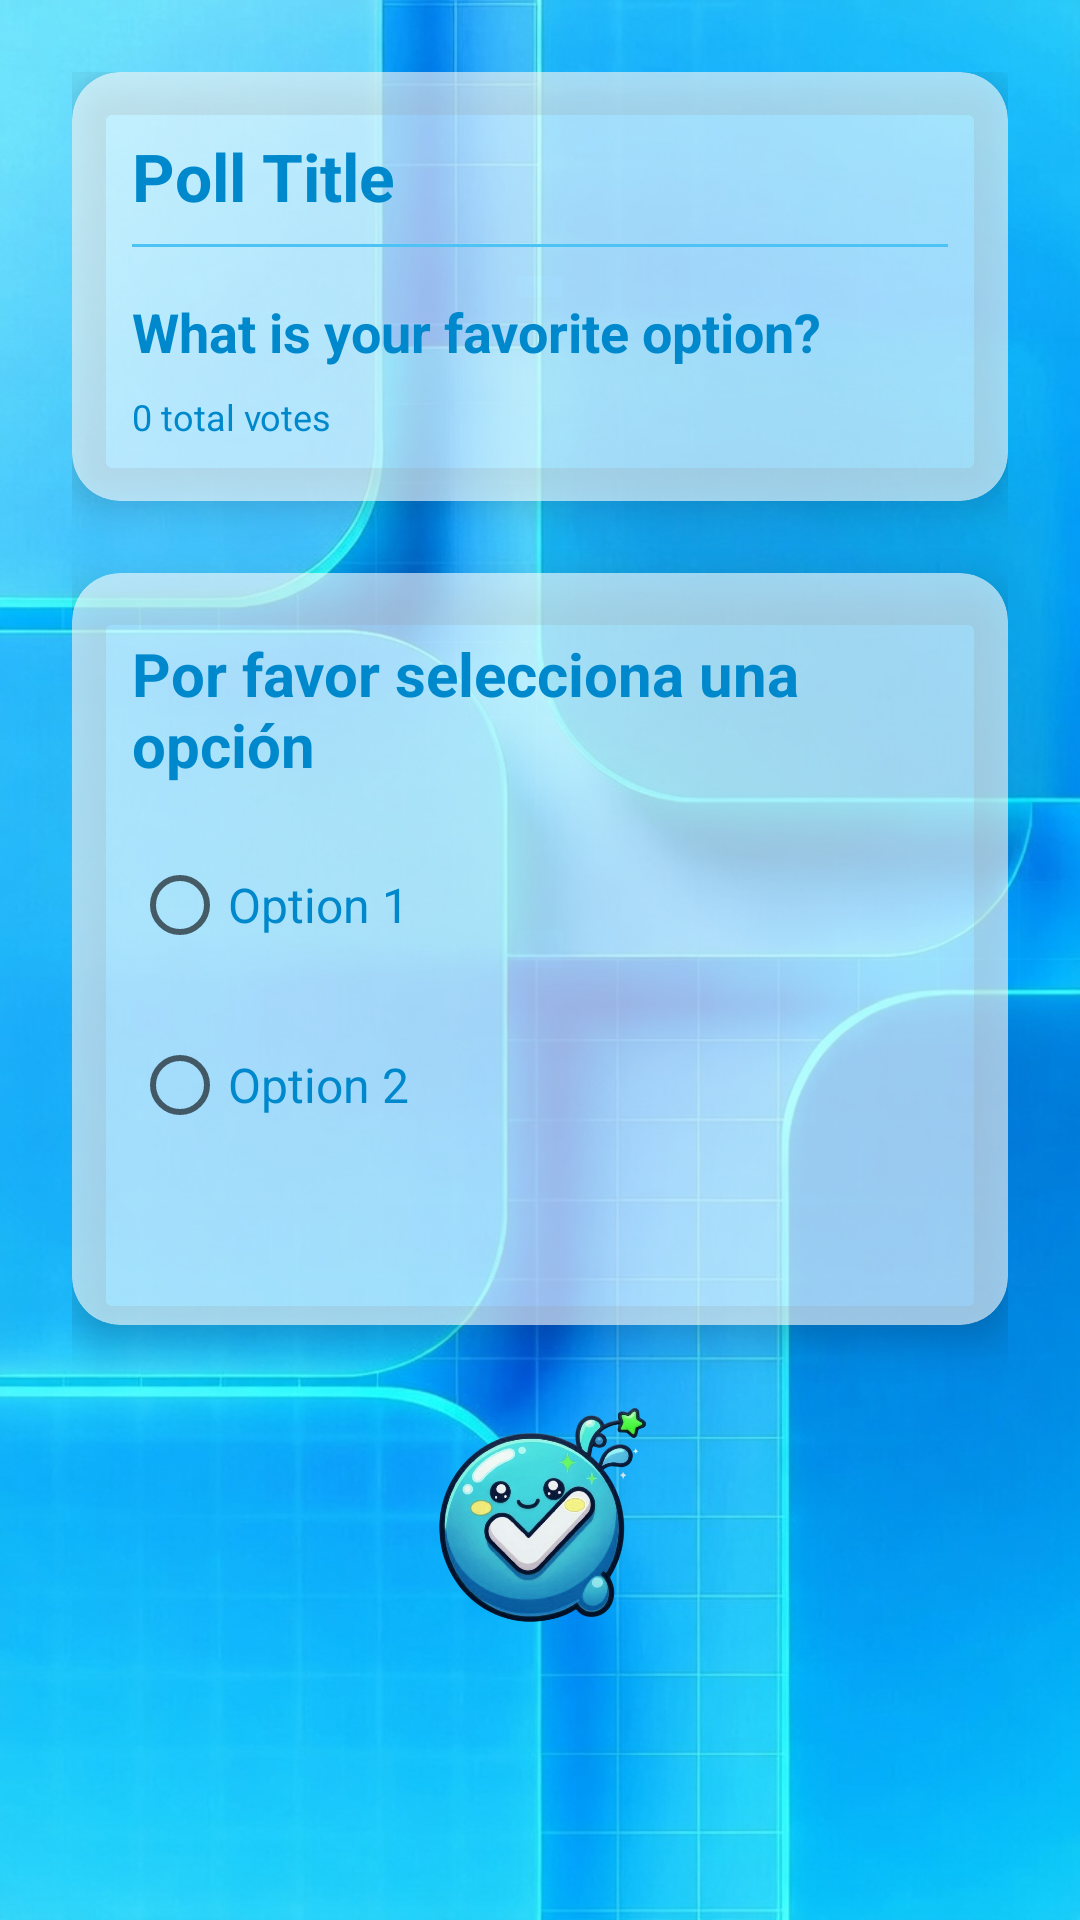

Screen size 1080px x 1920px. Icon name, then its box in pixels as Rect(x1, y1, x2, y2):
buttonblue: Rect(420, 1397, 660, 1637)
